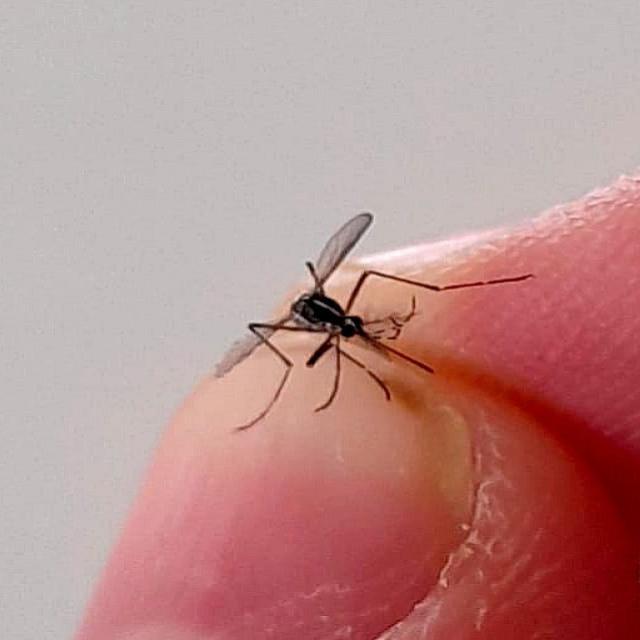albopictus: (213, 206, 525, 431)
